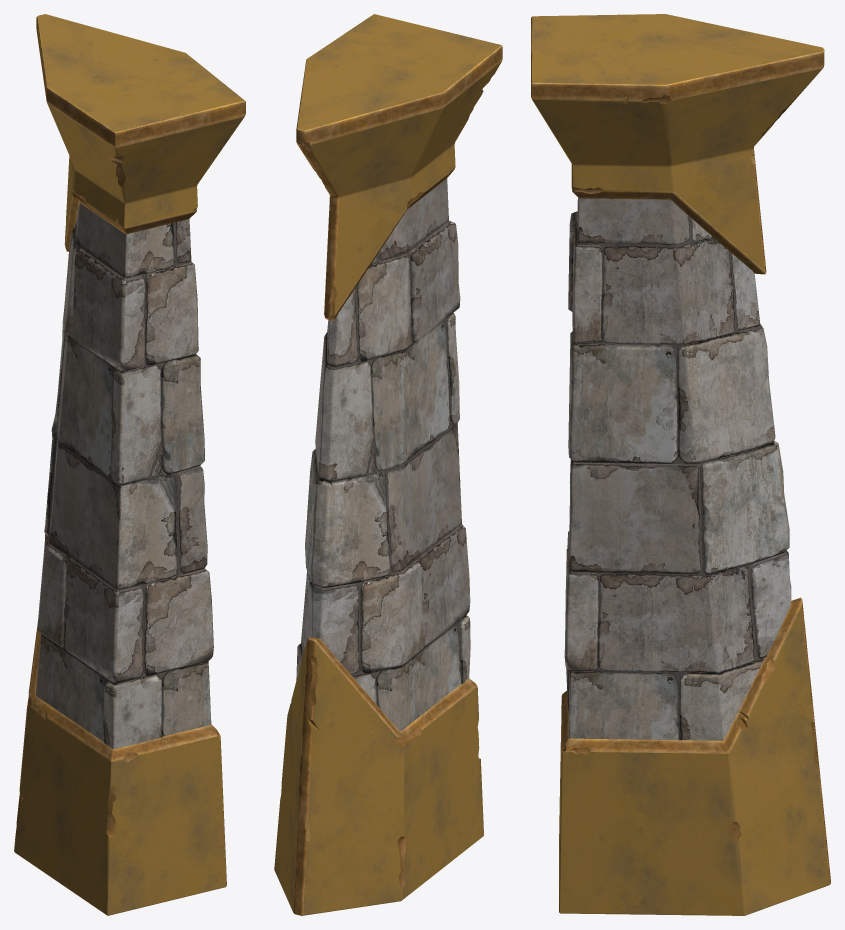
The picture shows the model from 3 angles, left to right: view 1: azimuth 30°, elevation 25°; view 2: azimuth 150°, elevation 25°; view 3: azimuth 270°, elevation 25°; orthographic projection. The views are drawn at different scales.
Visible parts, largest first — view 1: SM_Dragons_Lair_Pillar_01_LOD0; view 2: SM_Dragons_Lair_Pillar_01_LOD0; view 3: SM_Dragons_Lair_Pillar_01_LOD0.
Part boxes in pixels (x1,y1,x2,y2): SM_Dragons_Lair_Pillar_01_LOD0: [14, 14, 245, 915]; SM_Dragons_Lair_Pillar_01_LOD0: [274, 14, 502, 915]; SM_Dragons_Lair_Pillar_01_LOD0: [531, 14, 830, 915].
Bounding box in the file's own units: 3.43 × 18.57 × 6.05.
3 materials, 3 textured.
